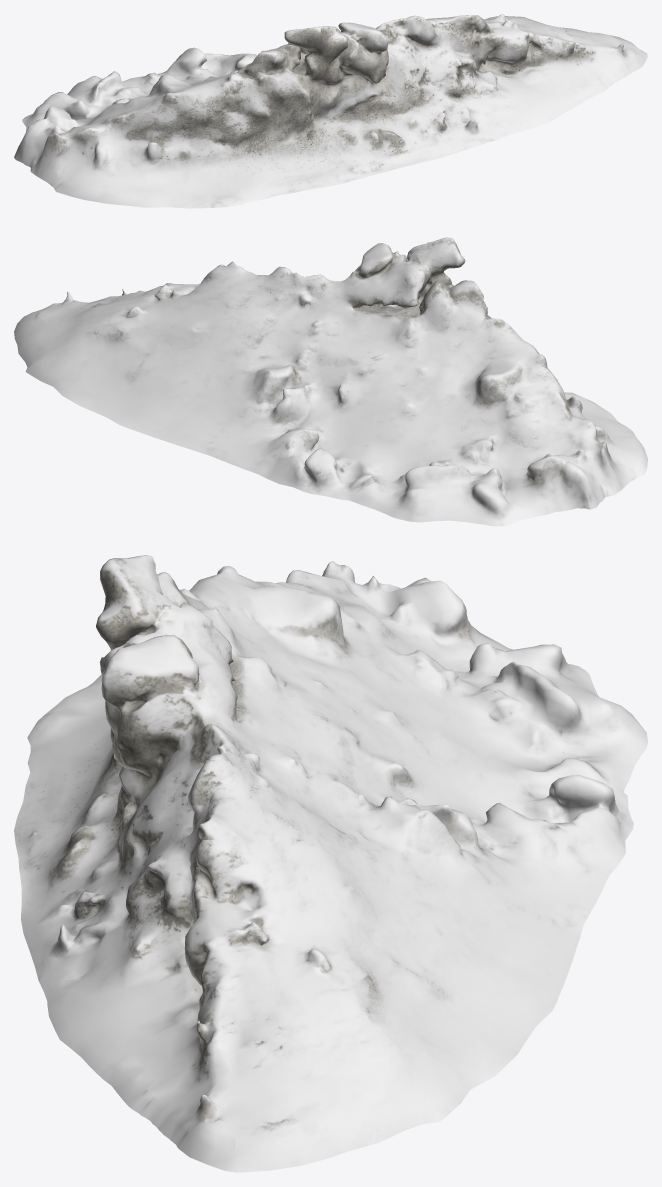
File: Snow5.fbx
3 renders of one model, top to bottom at view 1: azimuth 30°, elevation 25°; view 2: azimuth 150°, elevation 25°; view 3: azimuth 270°, elevation 25°, orthographic. The views are drawn at different scales.
Parts seen in each view (by area): view 1: Aset_nature_embankment_L_vcykbjsva_LOD0; view 2: Aset_nature_embankment_L_vcykbjsva_LOD0; view 3: Aset_nature_embankment_L_vcykbjsva_LOD0.
Part boxes in pixels (x1,y1,x2,y2): Aset_nature_embankment_L_vcykbjsva_LOD0: (14,14,647,208); Aset_nature_embankment_L_vcykbjsva_LOD0: (14,237,647,526); Aset_nature_embankment_L_vcykbjsva_LOD0: (14,555,647,1172).
Size of the model in its own units: 649 by 147 by 315.
Materials: 1 (1 with a texture image).
